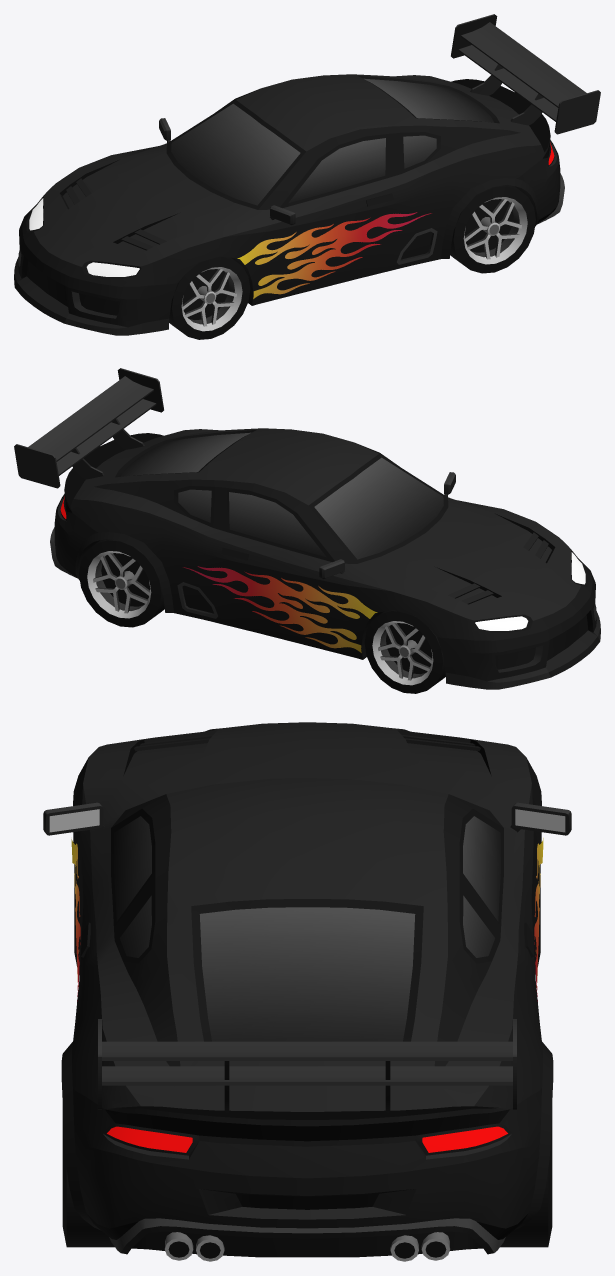
The model's file is Car_127.glb.
3 renders of one model, top to bottom at view 1: azimuth 30°, elevation 25°; view 2: azimuth 150°, elevation 25°; view 3: azimuth 270°, elevation 25°, orthographic. The views are drawn at different scales.
Visible parts, largest first — view 1: Car_127, wheel_1_Car_127_Wheel_1R, wheel_3_Car_127_Wheel_2R; view 2: Car_127, wheel_0_Car_127_Wheel_1L, wheel_2_Car_127_Wheel_2L; view 3: Car_127, wheel_1_Car_127_Wheel_1R, wheel_0_Car_127_Wheel_1L.
Part boxes in pixels (box(x1,y1,x2,y2)): Car_127: box(14, 14, 600, 335); wheel_1_Car_127_Wheel_1R: box(450, 185, 535, 273); wheel_3_Car_127_Wheel_2R: box(169, 256, 250, 339); Car_127: box(14, 368, 600, 689); wheel_0_Car_127_Wheel_1L: box(79, 539, 164, 627); wheel_2_Car_127_Wheel_2L: box(364, 610, 445, 693); Car_127: box(43, 722, 571, 1261); wheel_1_Car_127_Wheel_1R: box(62, 1106, 114, 1247); wheel_0_Car_127_Wheel_1L: box(500, 1106, 552, 1247).
Bounding box in the file's own units: 4.76 × 1.38 × 2.12.
3 materials, 3 textured.
